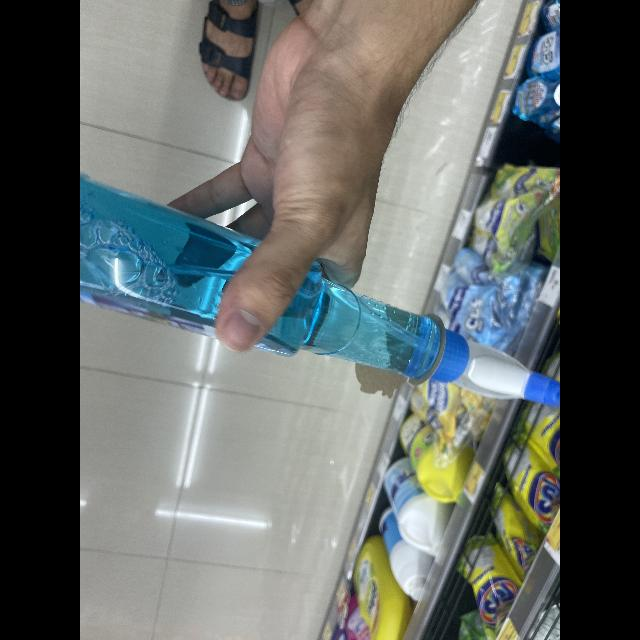chemical_plastic_bottle: (80, 161, 560, 417)
